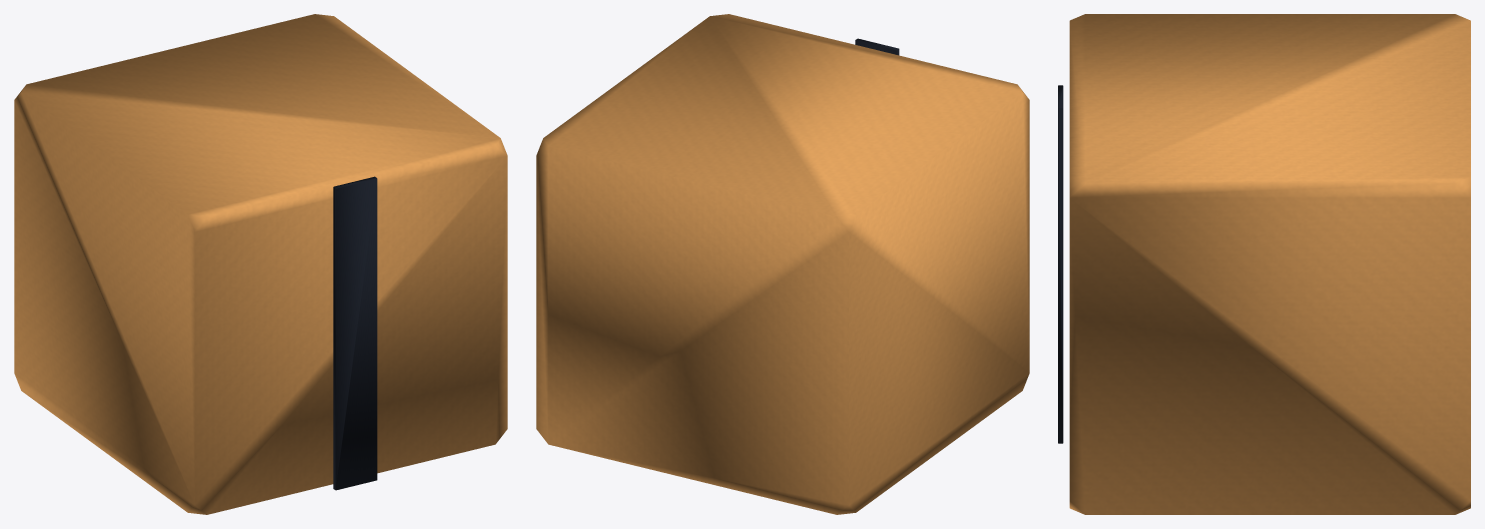
File: 06_cardboard_box_closed.glb
3 views of the same model, side by side, from view 1: azimuth 30°, elevation 25°; view 2: azimuth 150°, elevation 25°; view 3: azimuth 270°, elevation 25° (orthographic). The views are drawn at different scales.
Parts seen in each view (by area): view 1: box, tape; view 2: box; view 3: box, tape.
Part boxes in pixels (x1,y1,x2,y2): box: [14, 14, 507, 514]; tape: [333, 176, 377, 490]; box: [536, 14, 1029, 514]; box: [1069, 14, 1470, 514]; tape: [1058, 85, 1063, 443].
Bounding box in the file's own units: 0.9 × 0.854 × 0.926.
3 materials, 2 textured.
